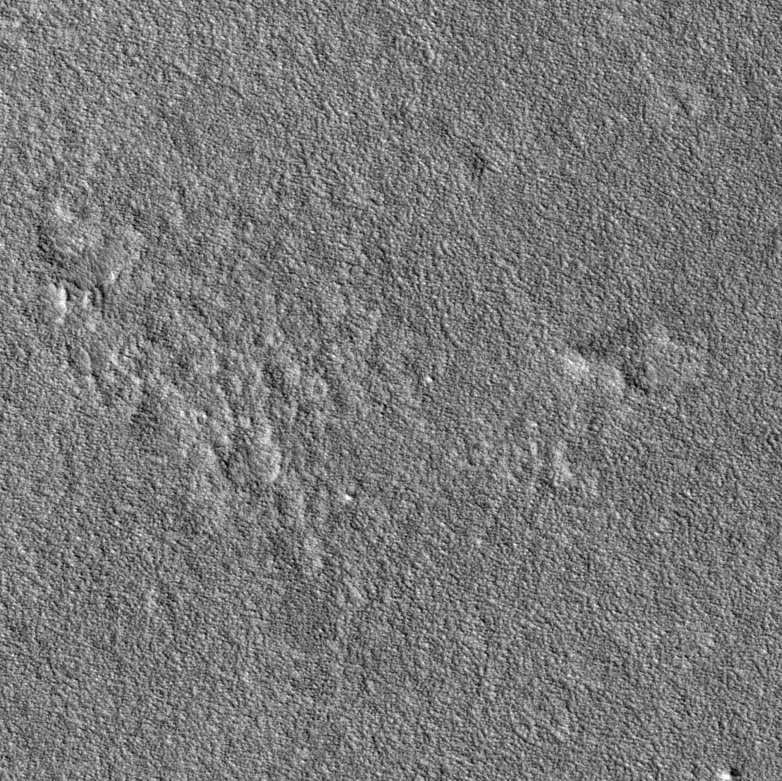dust_devil: (562, 318, 644, 376)
